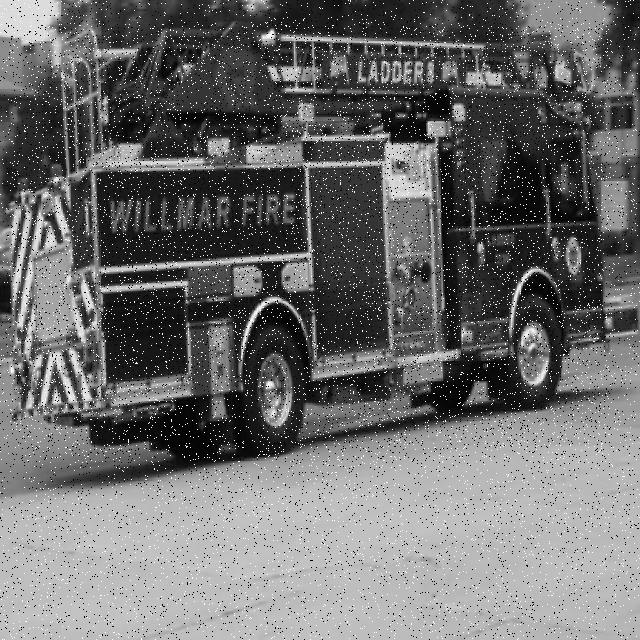Fire Truck: (11, 23, 610, 462)
